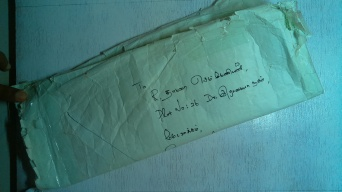l: (14, 3, 327, 178)
